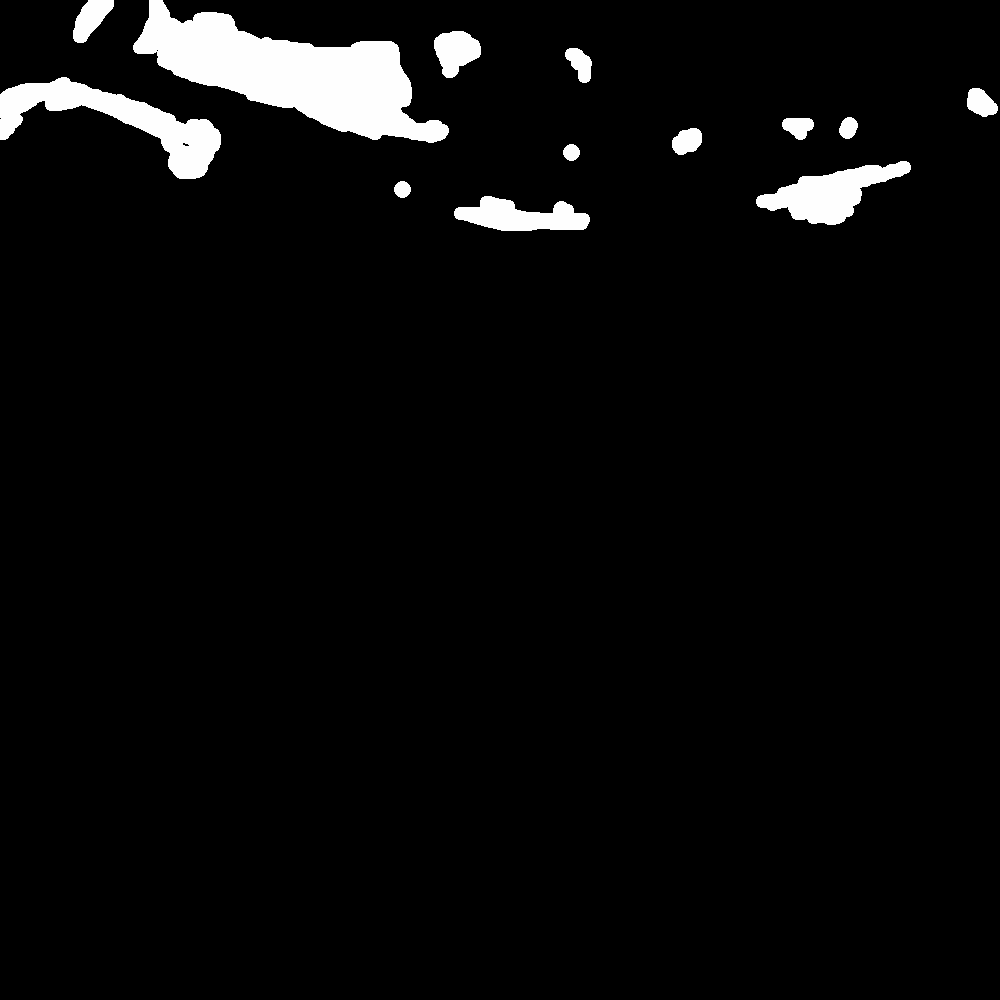illegal: (126, 1, 441, 144), (1, 75, 222, 182), (763, 160, 899, 218), (452, 194, 599, 232), (437, 27, 465, 80), (966, 92, 1000, 123), (574, 51, 603, 86), (78, 1, 99, 39), (678, 133, 716, 151), (790, 115, 811, 137)
